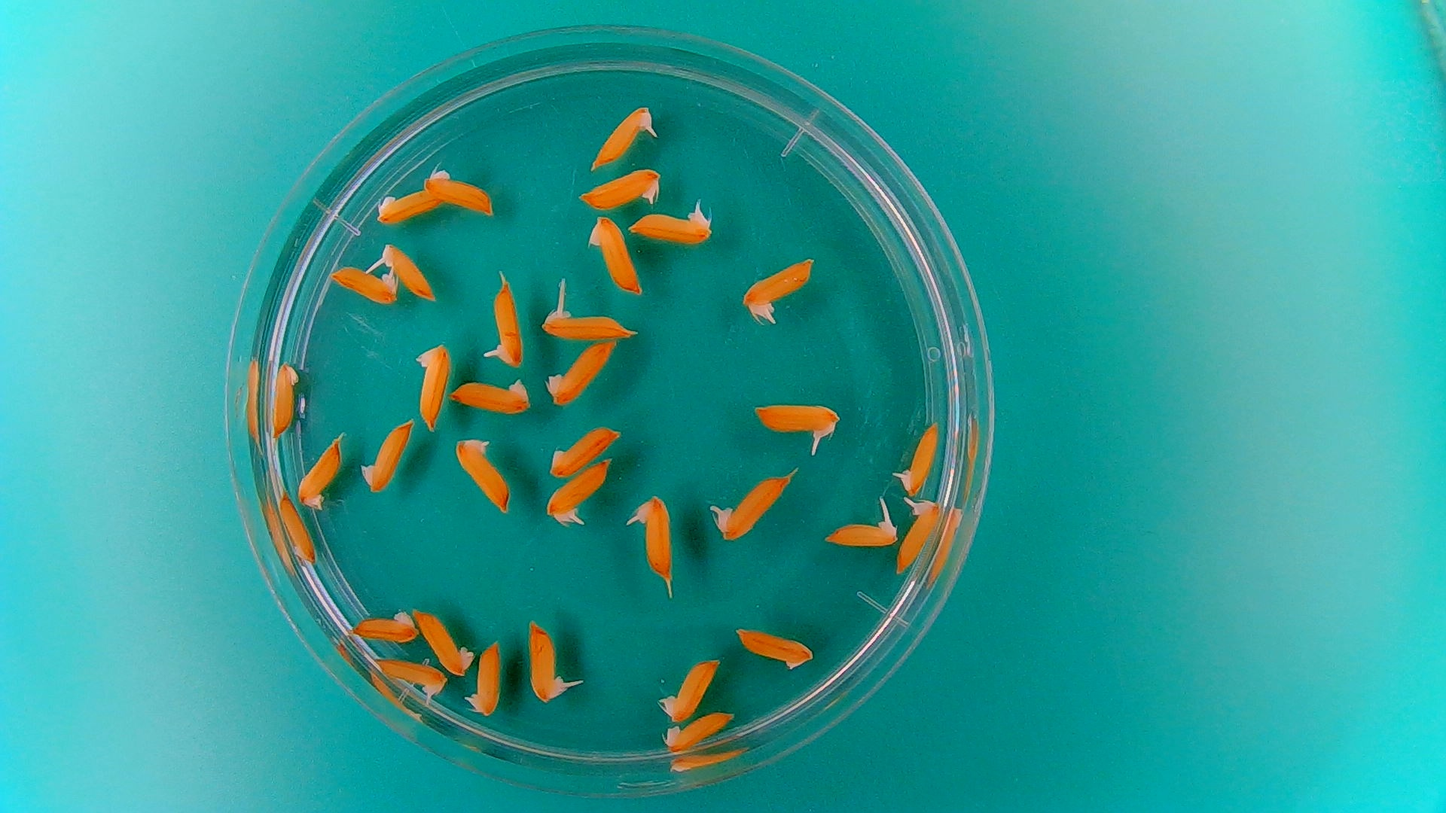no: (542, 335, 621, 409), (358, 414, 416, 497), (412, 605, 477, 679), (546, 421, 624, 480), (453, 437, 510, 517), (419, 163, 498, 217), (587, 217, 644, 290), (411, 336, 453, 434), (294, 432, 346, 511), (447, 374, 534, 418), (660, 706, 739, 754), (663, 655, 722, 719), (464, 635, 505, 720), (275, 493, 319, 568), (735, 629, 813, 668), (348, 604, 419, 645), (372, 188, 446, 227), (269, 359, 300, 440)
yes: (717, 472, 789, 541), (743, 255, 818, 316), (545, 462, 615, 523), (584, 166, 663, 214), (592, 104, 651, 168), (636, 493, 678, 577), (535, 308, 630, 344), (895, 497, 939, 574), (374, 654, 447, 699), (525, 625, 566, 705), (627, 209, 709, 247), (491, 285, 526, 368), (755, 404, 840, 438), (382, 243, 435, 297), (899, 421, 939, 492), (332, 266, 401, 305), (826, 519, 901, 551)
